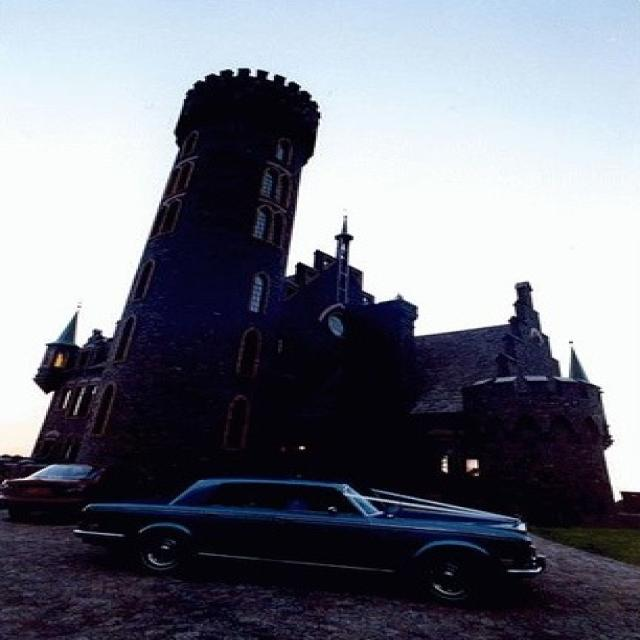Car: (76, 472, 549, 599)
